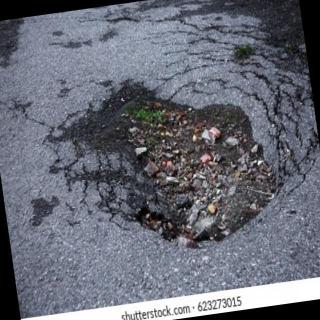pothole: (56, 80, 278, 248)
